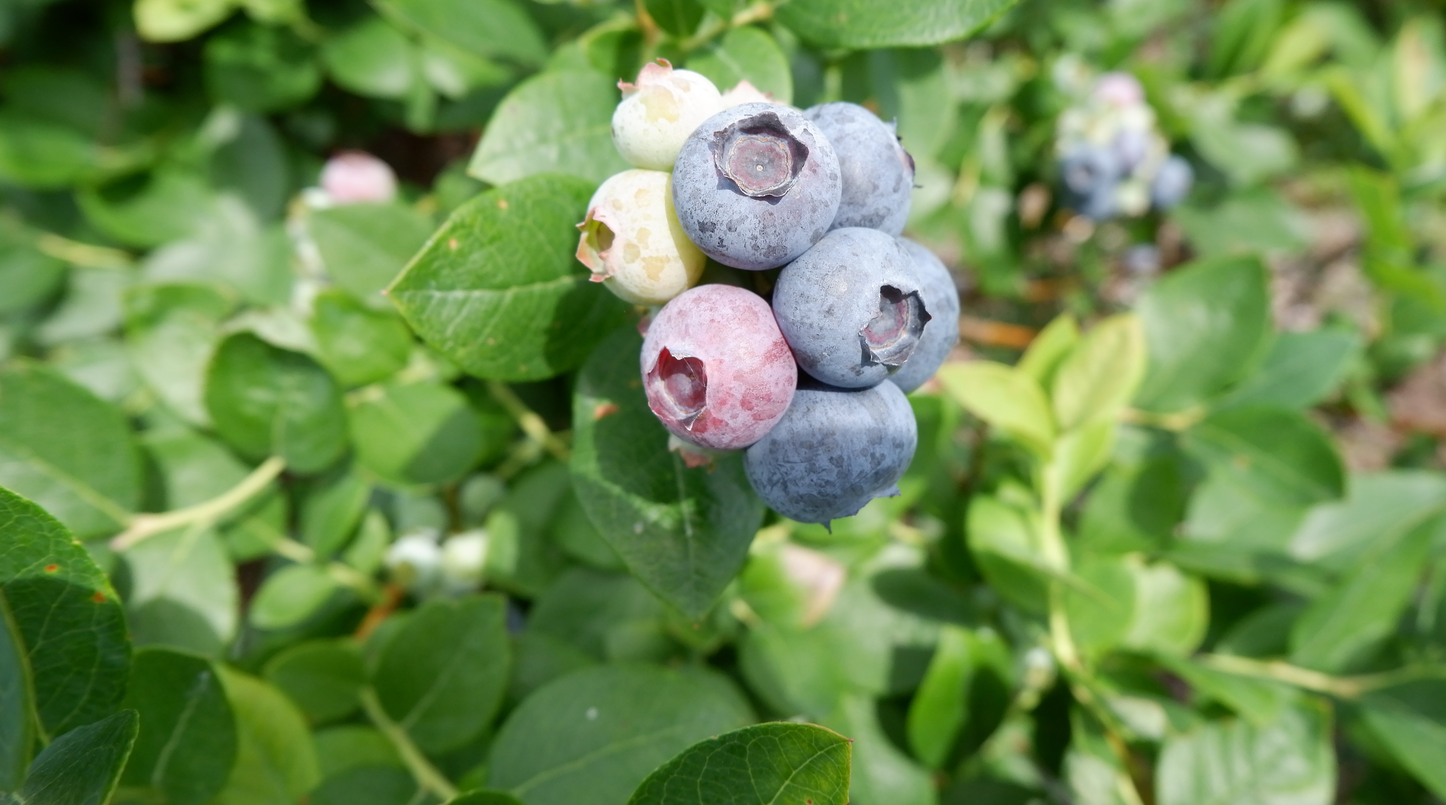Immature: (643, 290, 795, 448), (579, 173, 703, 301), (614, 64, 719, 170)
Mature: (675, 106, 836, 264), (746, 380, 915, 521), (777, 231, 927, 386), (812, 104, 913, 234), (898, 240, 959, 394)
